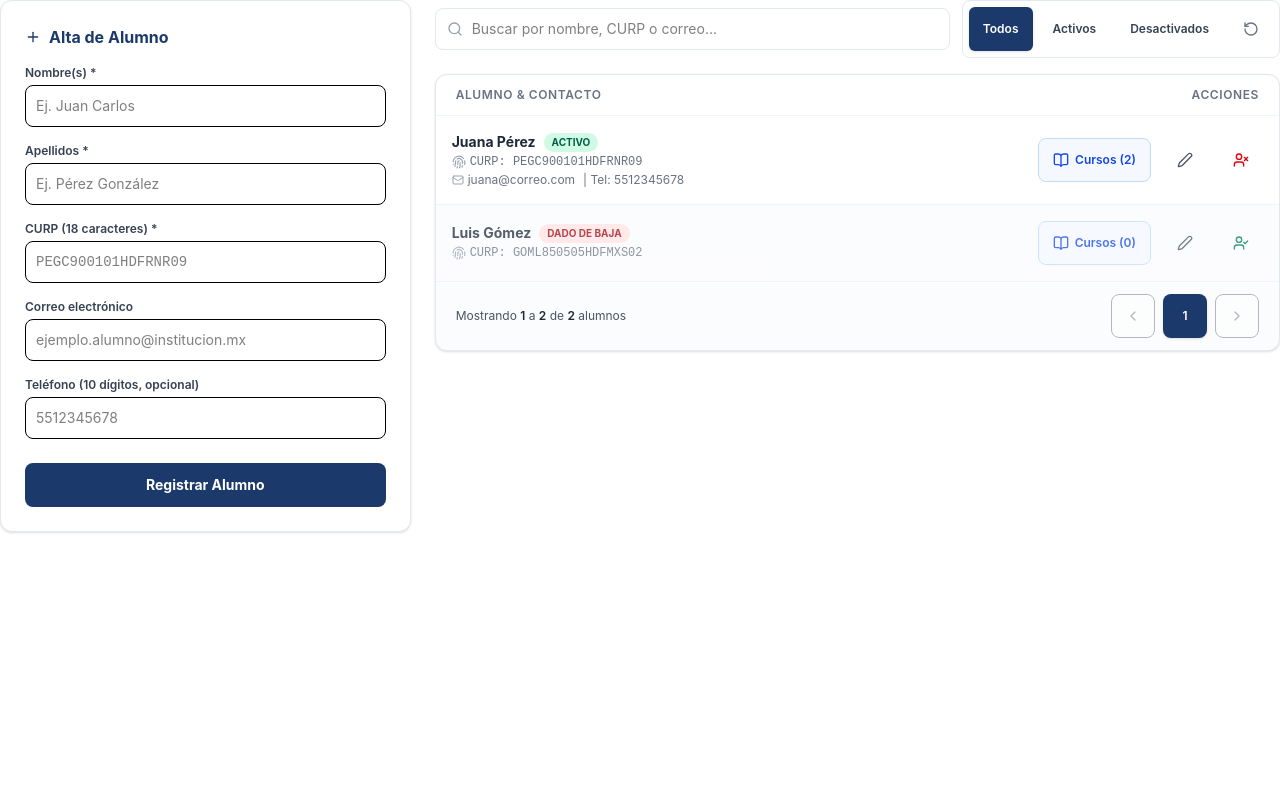
Test: ModuloAlumnos › modal de cursos del alumno › cierra el modal al hacer clic en "Cerrar"
The width and height of the screenshot is (1280, 800).
Click the button with aria-label "ver certificados y cursos inscritos de juana pérez": (1095, 160) [1038,138,1151,182]
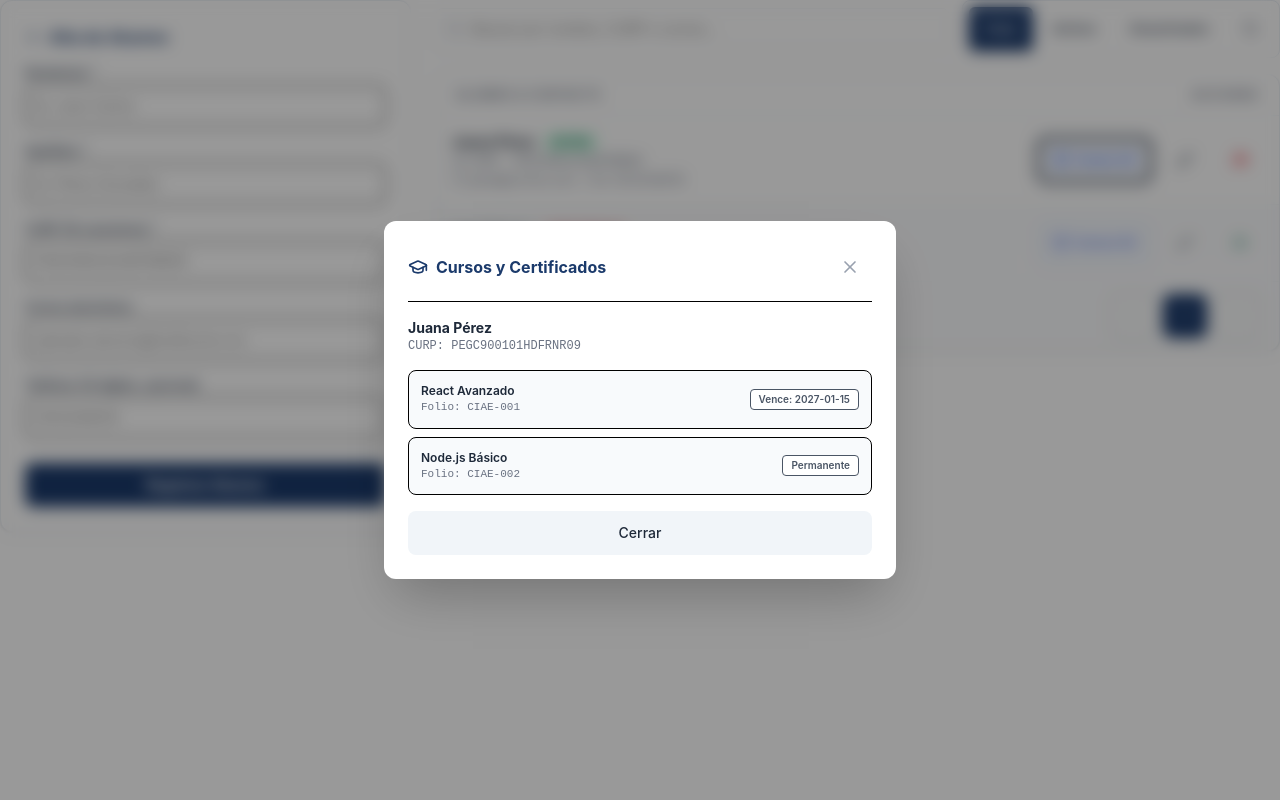
Click the button "Cerrar": (640, 533) [408,511,872,555]
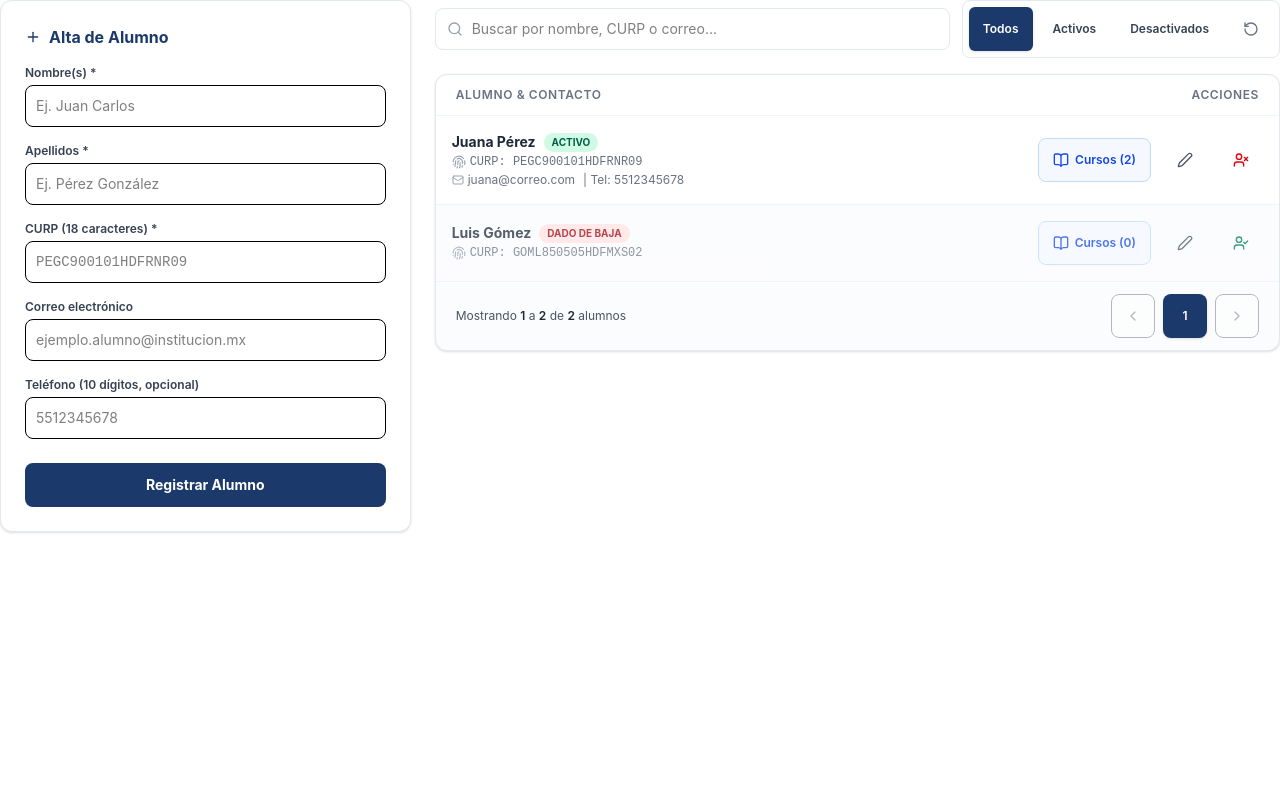
Expected: the dialog is gone
